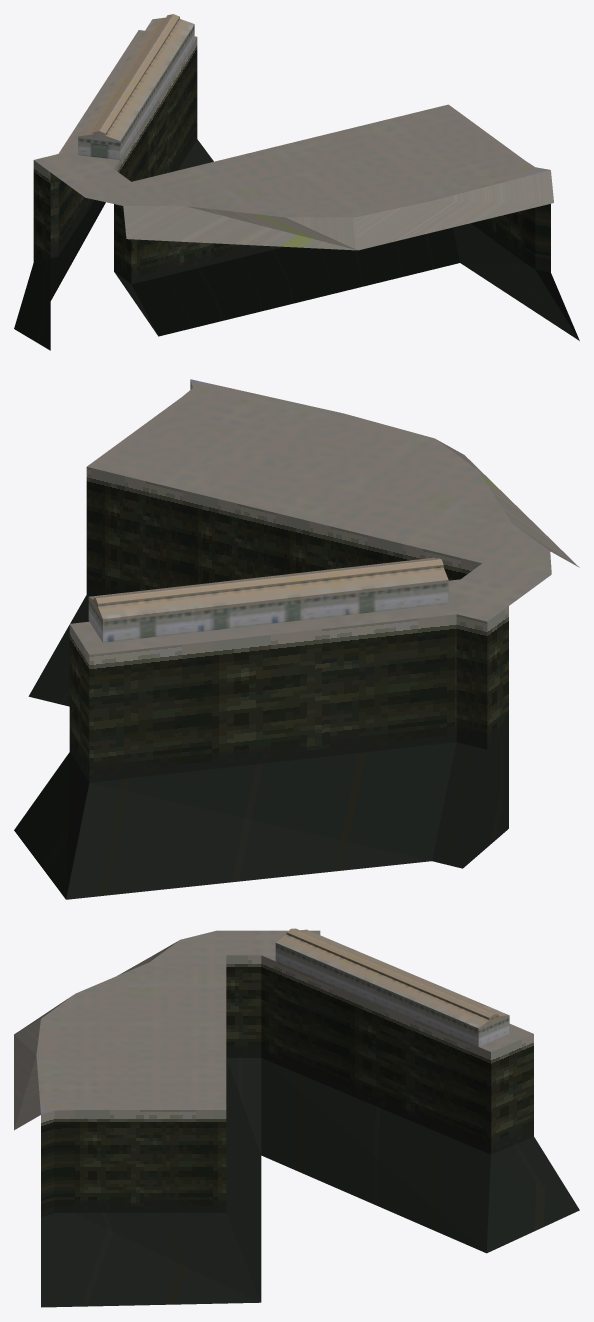
File: lodr69_sfe3.obj
3 views of the same model, one above another, from view 1: azimuth 30°, elevation 25°; view 2: azimuth 150°, elevation 25°; view 3: azimuth 270°, elevation 25° (orthographic). The views are drawn at different scales.
Visible parts, largest first — view 1: LODr69_sfe3; view 2: LODr69_sfe3; view 3: LODr69_sfe3.
Part boxes in pixels (bbox=[...]): LODr69_sfe3: bbox=[14, 14, 579, 350]; LODr69_sfe3: bbox=[14, 379, 579, 899]; LODr69_sfe3: bbox=[14, 928, 579, 1307].
Size of the model in its own units: 180 by 89.1 by 217.
Materials: 3 (3 with a texture image).
